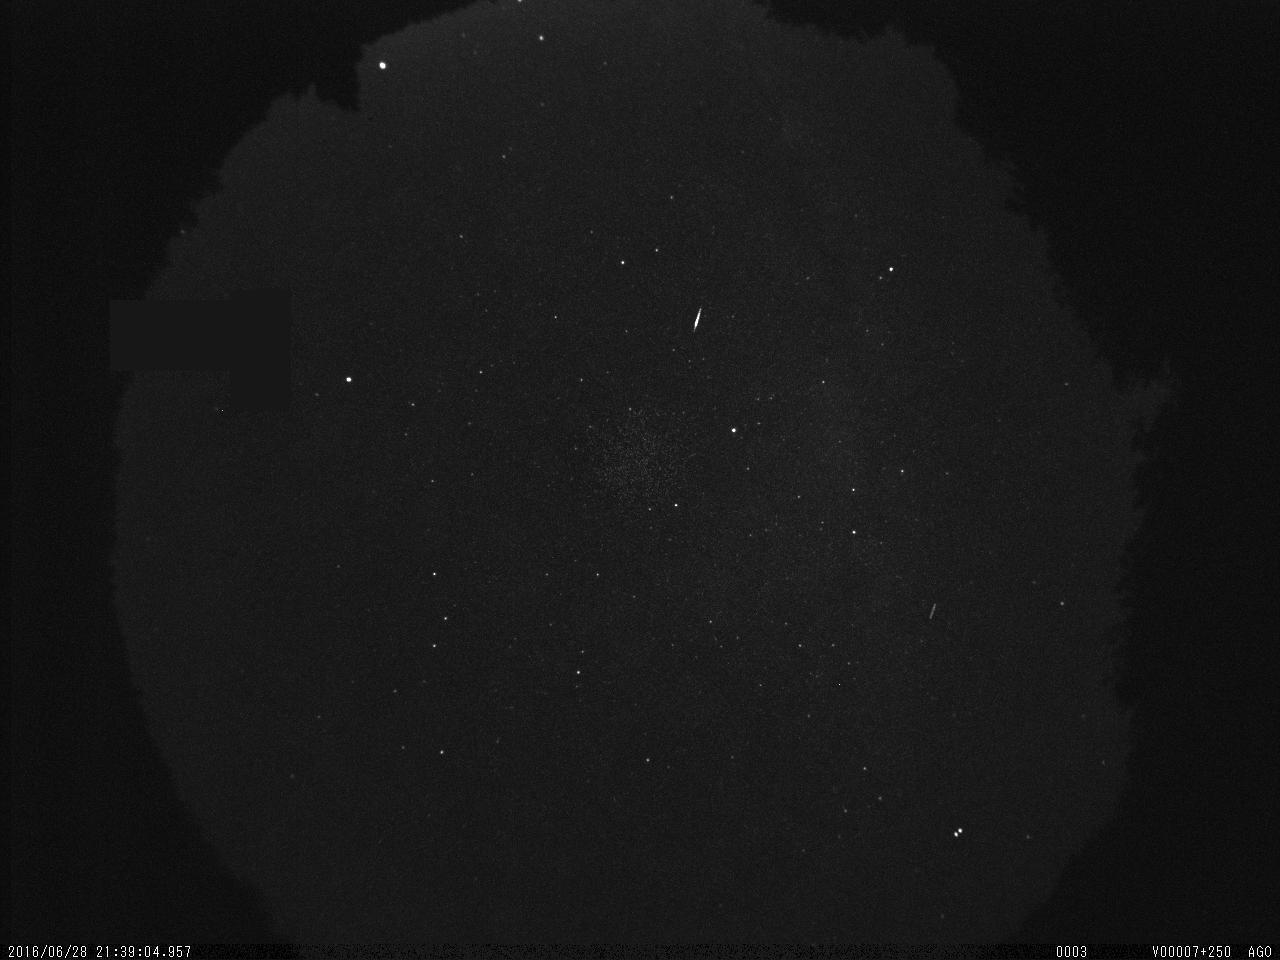Meteor: (690, 305, 703, 333)
